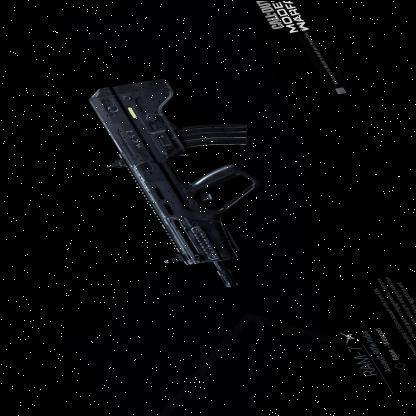rifle: (47, 63, 336, 302)
